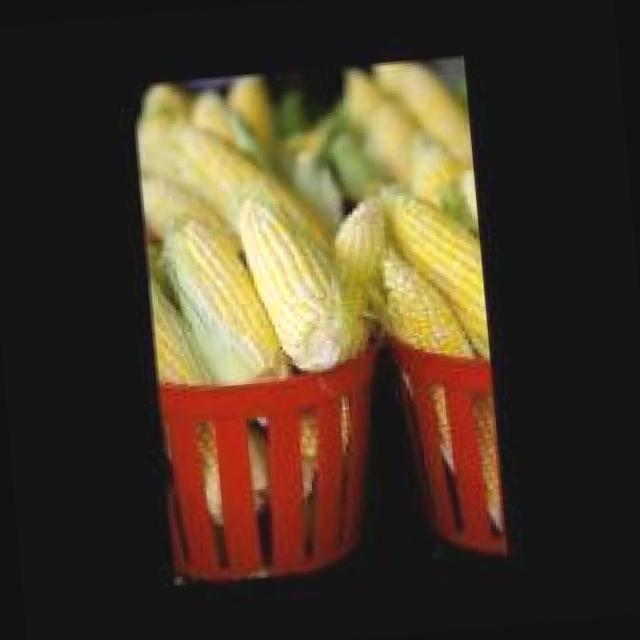corn: (139, 85, 490, 374)
